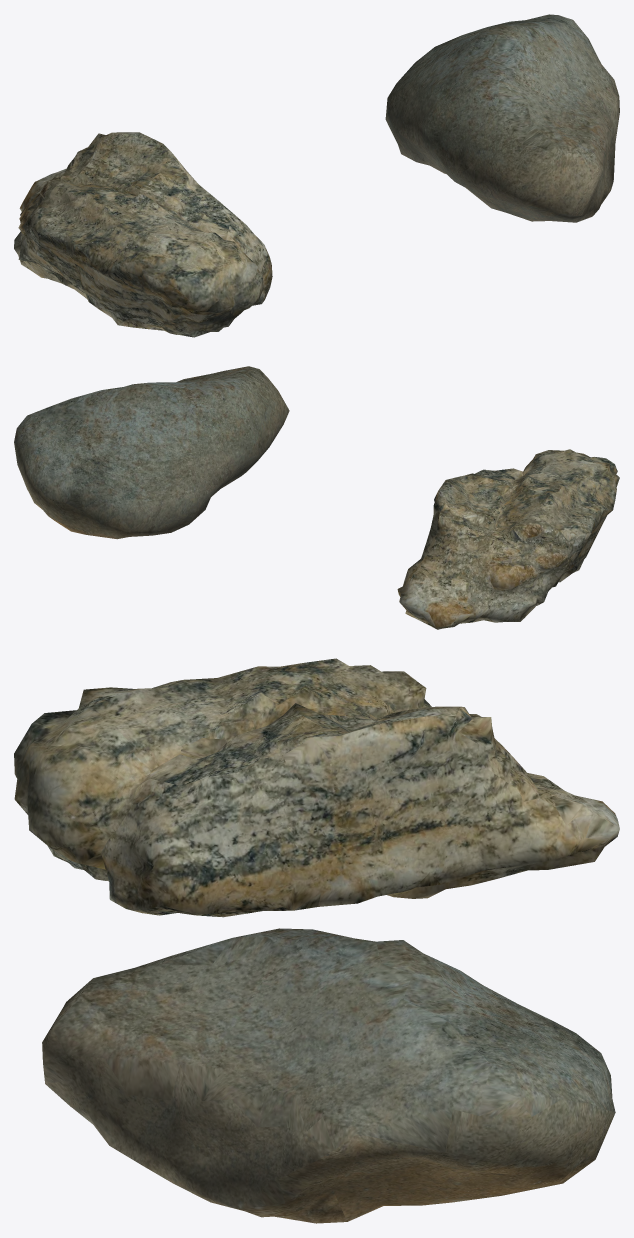
The model's file is namaqualand_boulders_01.glb.
3 views of the same model, one above another, from view 1: azimuth 30°, elevation 25°; view 2: azimuth 150°, elevation 25°; view 3: azimuth 270°, elevation 25° (orthographic). The views are drawn at different scales.
Parts seen in each view (by area): view 1: namaqualand_rocks_01_a, namaqualand_rocks_01_b; view 2: namaqualand_rocks_01_a, namaqualand_rocks_01_b; view 3: namaqualand_rocks_01_a, namaqualand_rocks_01_b.
Part boxes in pixels (box(x1,y1,x2,y2)): namaqualand_rocks_01_a: box(385, 14, 619, 222); namaqualand_rocks_01_b: box(14, 132, 272, 337); namaqualand_rocks_01_a: box(14, 366, 289, 539); namaqualand_rocks_01_b: box(397, 449, 619, 629); namaqualand_rocks_01_a: box(42, 928, 615, 1223); namaqualand_rocks_01_b: box(14, 658, 619, 917).
Size of the model in its own units: 1.06 by 0.2513 by 0.5816.
Materials: 1 (1 with a texture image).
